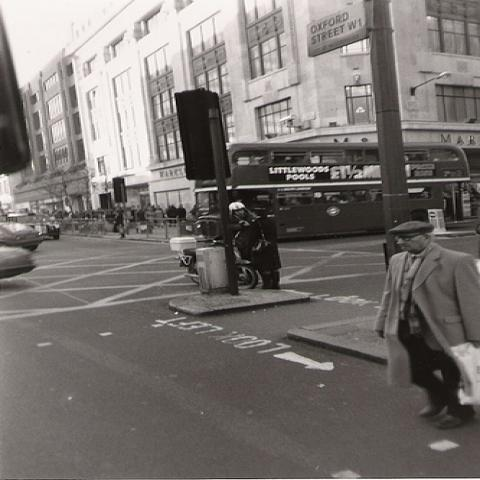bus: (225, 140, 478, 238)
car: (3, 212, 61, 240), (0, 239, 34, 277), (6, 222, 50, 248)
motorcycle: (174, 248, 258, 289)
